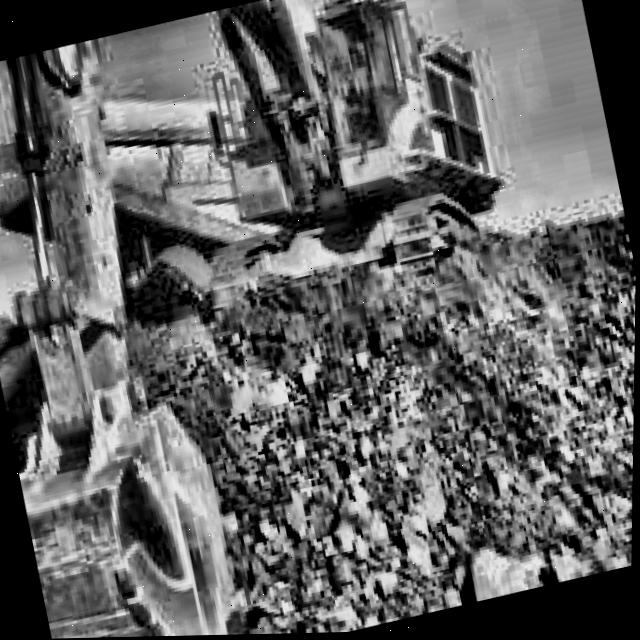dump_truck: (0, 51, 246, 307)
excavator: (0, 0, 593, 640)
